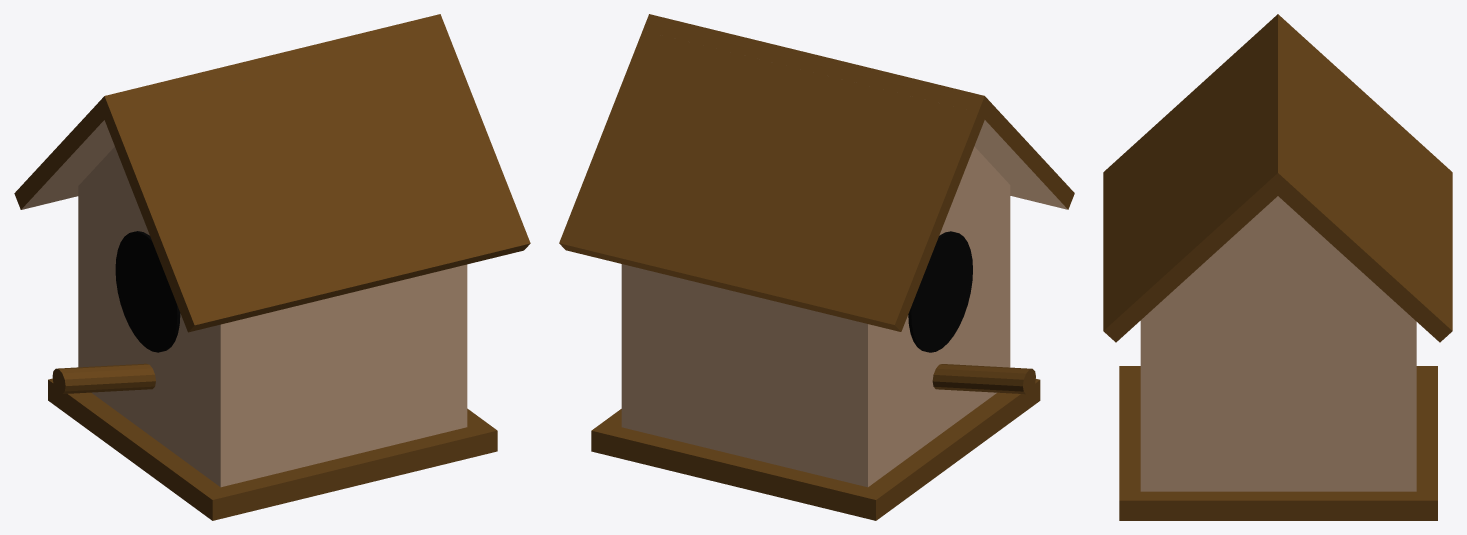
Rendered from good_birdhouse.fbx.
The picture shows the model from 3 angles, left to right: view 1: azimuth 30°, elevation 25°; view 2: azimuth 150°, elevation 25°; view 3: azimuth 270°, elevation 25°; orthographic projection. The views are drawn at different scales.
Parts seen in each view (by area): view 1: Cylinder.001; view 2: Cylinder.001; view 3: Cylinder.001.
Boxes of the visible parts, x1,y1,x2,y2 form: Cylinder.001: (14, 14, 530, 520); Cylinder.001: (559, 14, 1074, 520); Cylinder.001: (1103, 14, 1452, 520).
Bounding box in the file's own units: 267 × 249 × 219.
